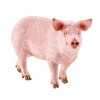heo: (10, 15, 93, 88)
